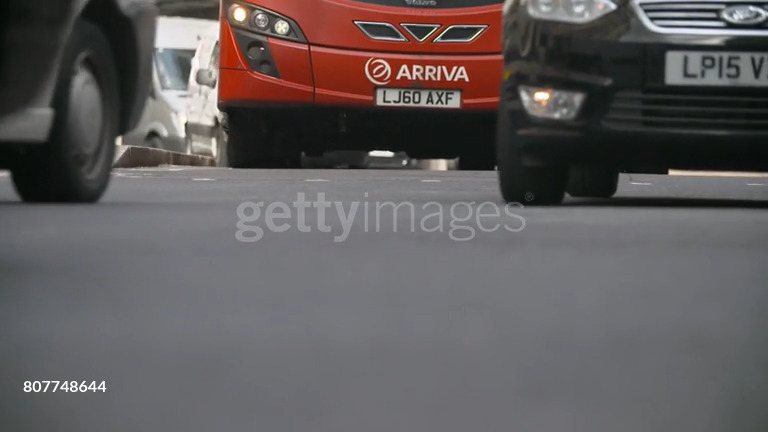car number: (662, 49, 767, 83), (374, 87, 460, 107)
